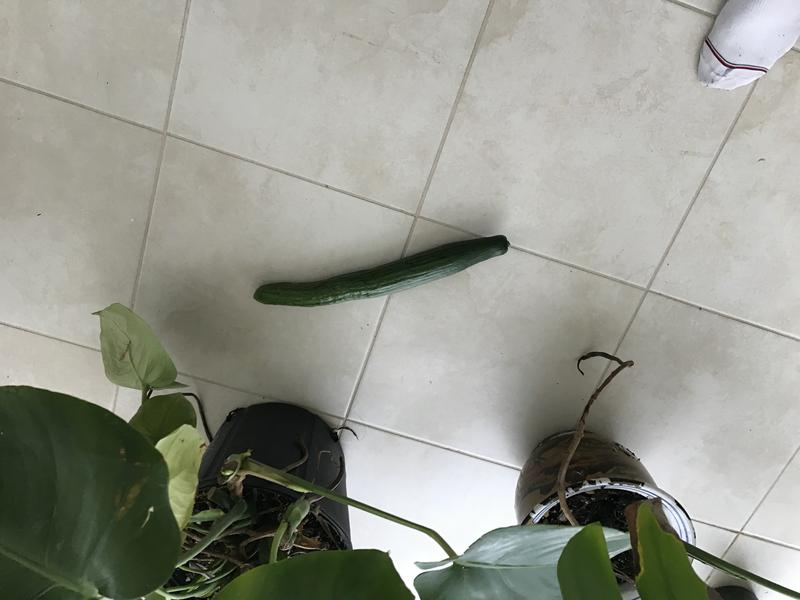cucumber: (250, 228, 520, 322)
